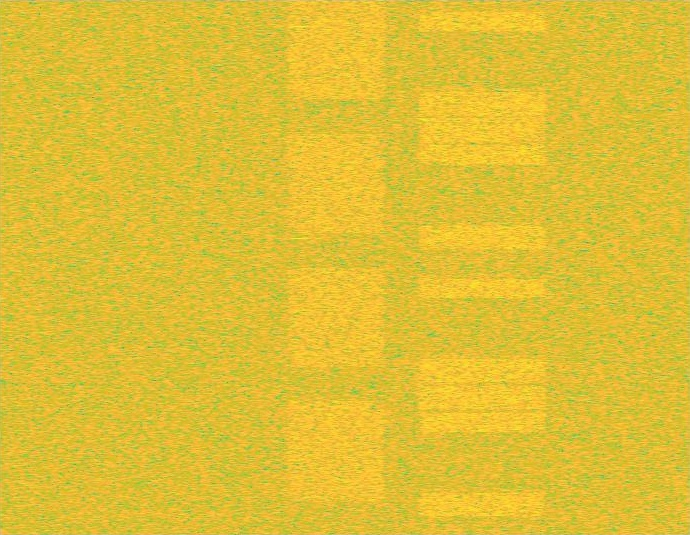5G: (285, 0, 388, 534)
LTE: (414, 0, 552, 534)
Radar: (293, 0, 307, 534)
